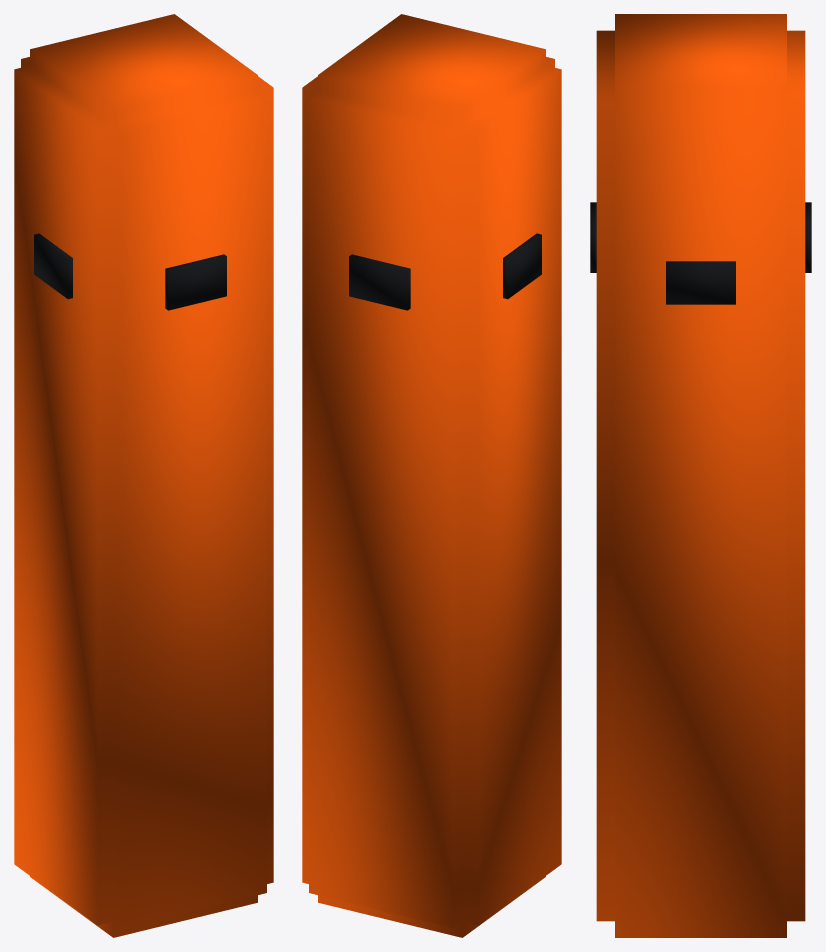
File: pylon_nfl.glb
3 views of the same model, side by side, from view 1: azimuth 30°, elevation 25°; view 2: azimuth 150°, elevation 25°; view 3: azimuth 270°, elevation 25° (orthographic). The views are drawn at different scales.
Visible parts, largest first — view 1: pylon_nfl.001; view 2: pylon_nfl.001; view 3: pylon_nfl.001.
Part boxes in pixels (left/top/right/bottom): pylon_nfl.001: left=14, top=14, right=273, bottom=937; pylon_nfl.001: left=302, top=14, right=561, bottom=937; pylon_nfl.001: left=590, top=14, right=811, bottom=937.
Size of the model in its own units: 0.1076 by 0.4572 by 0.1076.
